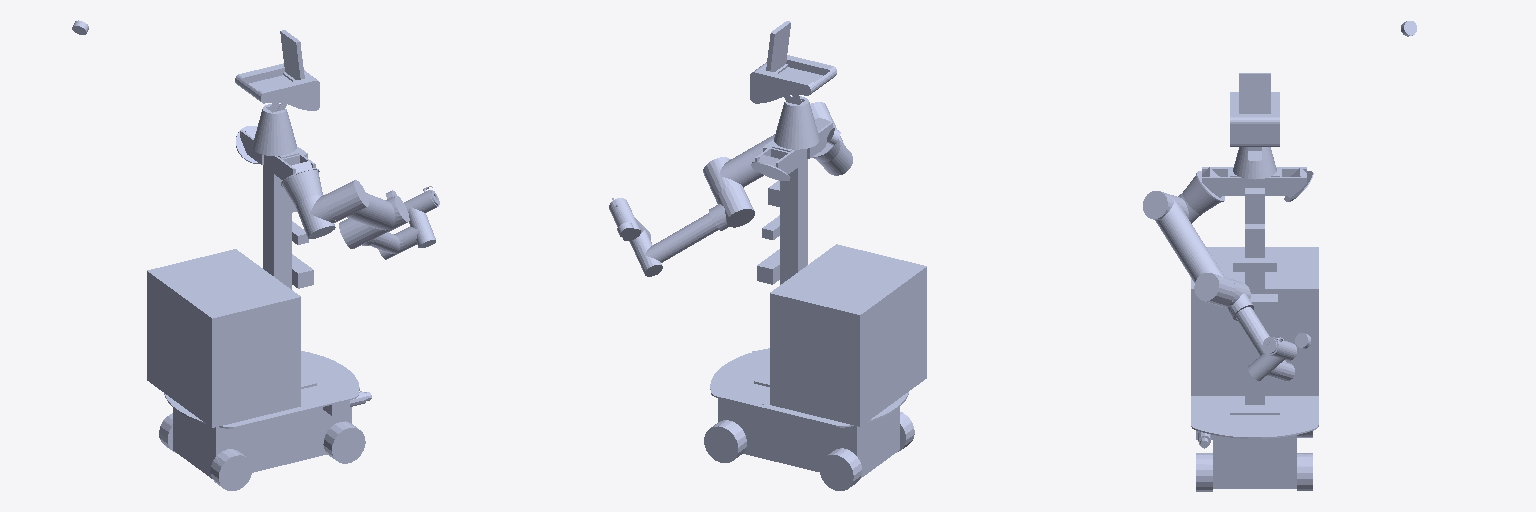
--- Facts derived from the render (not from the file) ---
The picture shows the robot from 3 angles, left to right: view 1: azimuth 30°, elevation 25°; view 2: azimuth 150°, elevation 25°; view 3: azimuth 270°, elevation 25°; orthographic projection.
Model Lowpoly_cholera_waypoint_base_URDF_AVATRINA_ver4.0 with 23 links and 22 joints (14 revolute, 8 fixed), rooted at base_link, posed all joints at 0.
Visible links, largest first — view 1: torso_link, base_link, head_neck2_link, right_upperarm_link, head_neck1_link, right_forearm_link, right_shoulder_link, right_base_link, right_wrist1_link; view 2: torso_link, base_link, head_neck2_link, right_forearm_link, right_upperarm_link, head_neck1_link, right_shoulder_link; view 3: torso_link, base_link, right_upperarm_link, head_neck2_link, right_forearm_link, head_neck1_link, right_base_link, right_wrist1_link.
Boxes of the visible links, x1,y1,x2,y2 form: torso_link: (147,126,319,427); base_link: (159,351,371,490); head_neck2_link: (235,30,319,112); right_upperarm_link: (324,180,409,236); head_neck1_link: (252,104,296,155); right_forearm_link: (339,218,408,259); right_shoulder_link: (295,194,337,238); right_base_link: (282,170,322,205); right_wrist1_link: (402,216,435,247); torso_link: (751,118,926,426); base_link: (704,348,914,490); head_neck2_link: (750,21,836,104); right_forearm_link: (634,185,754,276); right_upperarm_link: (703,102,836,198); head_neck1_link: (774,96,819,149); right_shoulder_link: (817,136,852,175); torso_link: (1191,167,1318,414); base_link: (1191,396,1318,491); right_upperarm_link: (1143,191,1235,305); head_neck2_link: (1230,73,1279,146); right_forearm_link: (1221,279,1294,381); head_neck1_link: (1233,147,1276,179); right_base_link: (1183,176,1220,213); right_wrist1_link: (1248,353,1280,380).
Bounding box of the posed robot: 1.33 × 1.09 × 1.77 m (x, y, z).
Meshes: 23 distinct files referenced, 15 mesh visuals loaded (15 binary STL); not drawn: 8 (reference not matched to a file when rendering).

robot.urdf — Lowpoly_cholera_waypoint_base_URDF_AVATRINA_ver4.0:
<?xml version="1.0" encoding="utf-8"?>
<!-- This URDF was automatically created by SolidWorks to URDF Exporter! Originally created by Stephen Brawner ([email redacted])
     Commit Version: 1.6.0-1-g15f4949  Build Version: 1.6.7594.29634
     For more information, please see http://wiki.ros.org/sw_urdf_exporter -->
<robot
  name="Lowpoly_cholera_waypoint_base_URDF_AVATRINA_ver4.0">
  <link
    name="base_link">
    <inertial>
      <origin
        xyz="0.00200786471252665 -0.00171722204201724 0.152574395291779"
        rpy="0 0 0" />
      <mass
        value="59.4239399661577" />
      <inertia
        ixx="1.09889680453988"
        ixy="0.0250052547792936"
        ixz="-0.0114923035863779"
        iyy="2.40877059769315"
        iyz="0.00991259808770769"
        izz="2.78489736604086" />
    </inertial>
    <visual>
      <origin
        xyz="0 0 0"
        rpy="0 0 0" />
      <geometry>
        <mesh
          filename="Cholera/base_link.STL" />
      </geometry>
      <material
        name="">
        <color
          rgba="0.792156862745098 0.819607843137255 0.933333333333333 1" />
      </material>
    </visual>
    <collision>
      <origin
        xyz="0 0 0"
        rpy="0 0 0" />
      <geometry>
        <mesh
          filename="Cholera/base_link.STL" />
      </geometry>
    </collision>
  </link>
  <link
    name="torso_link">
    <inertial>
      <origin
        xyz="-0.213969125680242 4.88498130835069E-15 0.611142627118972"
        rpy="0 0 0" />
      <mass
        value="106.883031265813" />
      <inertia
        ixx="4.27614691472248"
        ixy="4.49835481364236E-16"
        ixz="-5.0595132743442E-05"
        iyy="3.46832278448625"
        iyz="-5.30380171361584E-16"
        izz="3.37940429795961" />
    </inertial>
    <visual>
      <origin
        xyz="0 0 0"
        rpy="0 0 0" />
      <geometry>
        <mesh
          filename="Cholera/torso_link.STL" />
      </geometry>
      <material
        name="">
        <color
          rgba="0.792156862745098 0.819607843137255 0.933333333333333 1" />
      </material>
    </visual>
    <collision>
      <origin
        xyz="0 0 0"
        rpy="0 0 0" />
      <geometry>
        <mesh
          filename="Cholera/torso_link.STL" />
      </geometry>
    </collision>
  </link>
  <joint
    name="base_torso"
    type="fixed">
    <origin
      xyz="0.0682840549679995 0 -0.0328650000939976"
      rpy="0 0 0" />
    <parent
      link="base_link" />
    <child
      link="torso_link" />
    <axis
      xyz="0 0 0" />
  </joint>
  <link
    name="head_base_link">
    <inertial>
      <origin
        xyz="-1.66533453693773E-16 -4.44089209850063E-16 0.00249999999999995"
        rpy="0 0 0" />
      <mass
        value="0.0737168146928194" />
      <inertia
        ixx="0.000266191924833222"
        ixy="-4.85833779435058E-19"
        ixz="2.15674514151694E-20"
        iyy="4.10395599934384E-05"
        iyz="4.1531055570813E-20"
        izz="0.000306924331432107" />
    </inertial>
    <visual>
      <origin
        xyz="0 0 0"
        rpy="0 0 0" />
      <geometry>
        <mesh
          filename="Cholera/head_base_link.STL" />
      </geometry>
      <material
        name="">
        <color
          rgba="0.792156862745098 0.819607843137255 0.933333333333333 1" />
      </material>
    </visual>
    <collision>
      <origin
        xyz="0 0 0"
        rpy="0 0 0" />
      <geometry>
        <mesh
          filename="Cholera/head_base_link.STL" />
      </geometry>
    </collision>
  </link>
  <joint
    name="torso_head_base"
    type="fixed">
    <origin
      xyz="0.00110804311517892 0 1.339055"
      rpy="0 0 0" />
    <parent
      link="torso_link" />
    <child
      link="head_base_link" />
    <axis
      xyz="0 0 0" />
  </joint>
  <link
    name="head_neck1_link">
    <inertial>
      <origin
        xyz="-0.0171621976150749 -3.79645759274183E-11 0.0558163592976595"
        rpy="0 0 0" />
      <mass
        value="1.99424005579165" />
      <inertia
        ixx="0.00636307121414134"
        ixy="2.33314090941852E-11"
        ixz="0.000332134620334537"
        iyy="0.00611653738686079"
        iyz="8.99706020390952E-12"
        izz="0.00574807185042476" />
    </inertial>
    <visual>
      <origin
        xyz="0 0 0"
        rpy="0 0 0" />
      <geometry>
        <mesh
          filename="Cholera/head_neck1_link.STL" />
      </geometry>
      <material
        name="">
        <color
          rgba="0.792156862745098 0.819607843137255 0.933333333333333 1" />
      </material>
    </visual>
    <collision>
      <origin
        xyz="0 0 0"
        rpy="0 0 0" />
      <geometry>
        <mesh
          filename="Cholera/head_neck1_link.STL" />
      </geometry>
    </collision>
  </link>
  <joint
    name="head_base_neck1"
    type="revolute">
    <origin
      xyz="0 0 0.00499999999999989"
      rpy="0 0 0" />
    <parent
      link="head_base_link" />
    <child
      link="head_neck1_link" />
    <axis
      xyz="0 0 -1" />
    <limit
      lower="-1.57"
      upper="1.57"
      effort="1"
      velocity="1" />
  </joint>
  <link
    name="head_neck2_link">
    <inertial>
      <origin
        xyz="0.117557233805506 0.0580913659504723 5.3786924775201E-07"
        rpy="0 0 0" />
      <mass
        value="3.69751206662782" />
      <inertia
        ixx="0.0314801888840978"
        ixy="0.00327810894331112"
        ixz="-1.06209334090474E-07"
        iyy="0.0191002061001758"
        iyz="3.21923976027293E-07"
        izz="0.0220138214594569" />
    </inertial>
    <visual>
      <origin
        xyz="0 0 0"
        rpy="0 0 0" />
      <geometry>
        <mesh
          filename="Cholera/head_neck2_link.STL" />
      </geometry>
      <material
        name="">
        <color
          rgba="0.792156862745098 0.819607843137255 0.933333333333333 1" />
      </material>
    </visual>
    <collision>
      <origin
        xyz="0 0 0"
        rpy="0 0 0" />
      <geometry>
        <mesh
          filename="Cholera/head_neck2_link.STL" />
      </geometry>
    </collision>
  </link>
  <joint
    name="head_neck1_neck2"
    type="revolute">
    <origin
      xyz="-0.0141080431151795 0 0.1378"
      rpy="-1.5707963267949 -1.5707963267949 0" />
    <parent
      link="head_neck1_link" />
    <child
      link="head_neck2_link" />
    <axis
      xyz="0 0 1" />
    <limit
      lower="-1.57"
      upper="0.785"
      effort="1"
      velocity="1" />
  </joint>
  <link
    name="left_base_link">
    <inertial>
      <origin
        xyz="0 0 0.0452500167858338"
        rpy="0 0 0" />
      <mass
        value="1.39397162412901" />
      <inertia
        ixx="0.00271550342627118"
        ixy="-1.62630325872826E-19"
        ixz="-4.87890977618477E-19"
        iyy="0.00271550342627118"
        iyz="2.71050543121376E-19"
        izz="0.00319199166031868" />
    </inertial>
    <visual>
      <origin
        xyz="0 0 0"
        rpy="0 0 0" />
      <geometry>
        <mesh
          filename="Cholera/left_base_link.STL" />
      </geometry>
      <material
        name="">
        <color
          rgba="0.792156862745098 0.819607843137255 0.933333333333333 1" />
      </material>
    </visual>
    <collision>
      <origin
        xyz="0 0 0"
        rpy="0 0 0" />
      <geometry>
        <mesh
          filename="Cholera/left_base_link.STL" />
      </geometry>
    </collision>
  </link>
  <joint
    name="base_left_base"
    type="fixed">
    <origin
      xyz="0.0682840549679994 0.177248737341525 1.24386766943567"
      rpy="2.5261129449194 0.523598775598302 -2.52611294491941" />
    <parent
      link="base_link" />
    <child
      link="left_base_link" />
    <axis
      xyz="0 0 0" />
  </joint>
  <link
    name="left_shoulder_link">
    <inertial>
      <origin
        xyz="1.14297319386836E-07 0.00937261893288466 0.067026772906609"
        rpy="0 0 0" />
      <mass
        value="1.69867696887764" />
      <inertia
        ixx="0.00442864599419339"
        ixy="-4.1010435672395E-09"
        ixz="2.8740170573277E-10"
        iyy="0.00390531713147106"
        iyz="5.6961157001318E-05"
        izz="0.0035600426008386" />
    </inertial>
    <visual>
      <origin
        xyz="0 0 0"
        rpy="0 0 0" />
      <geometry>
        <mesh
          filename="Cholera/left_shoulder_link.STL" />
      </geometry>
      <material
        name="">
        <color
          rgba="0.792156862745098 0.819607843137255 0.933333333333333 1" />
      </material>
    </visual>
    <collision>
      <origin
        xyz="0 0 0"
        rpy="0 0 0" />
      <geometry>
        <mesh
          filename="Cholera/left_shoulder_link.STL" />
      </geometry>
    </collision>
  </link>
  <joint
    name="left_base_shoulder"
    type="revolute">
    <origin
      xyz="0 0 0.0990600000000002"
      rpy="0 0 1.5707963267949" />
    <parent
      link="left_base_link" />
    <child
      link="left_shoulder_link" />
    <axis
      xyz="0 0 1" />
    <limit
      lower="-6.28"
      upper="6.28"
      effort="150"
      velocity="3.33" />
  </joint>
  <link
    name="left_upperarm_link">
    <inertial>
      <origin
        xyz="1.35809636425677E-07 0.212500030104974 0.0653493983179751"
        rpy="0 0 0" />
      <mass
        value="6.31285273346306" />
      <inertia
        ixx="0.16990036349023"
        ixy="8.61179154376668E-09"
        ixz="3.01509572205039E-07"
        iyy="0.0127291856529223"
        iyz="-4.74484079847695E-10"
        izz="0.168139675767776" />
    </inertial>
    <visual>
      <origin
        xyz="0 0 0"
        rpy="0 0 0" />
      <geometry>
        <mesh
          filename="Cholera/left_upperarm_link.STL" />
      </geometry>
      <material
        name="">
        <color
          rgba="0.792156862745098 0.819607843137255 0.933333333333333 1" />
      </material>
    </visual>
    <collision>
      <origin
        xyz="0 0 0"
        rpy="0 0 0" />
      <geometry>
        <mesh
          filename="Cholera/left_upperarm_link.STL" />
      </geometry>
    </collision>
  </link>
  <joint
    name="left_shoulder_upperarm"
    type="revolute">
    <origin
      xyz="0 0.0744 0.0634490000000003"
      rpy="-1.5707963267949 -1.5707963267949 0" />
    <parent
      link="left_shoulder_link" />
    <child
      link="left_upperarm_link" />
    <axis
      xyz="0 0 1" />
    <limit
      lower="-6.28"
      upper="6.28"
      effort="150"
      velocity="3.33" />
  </joint>
  <link
    name="left_forearm_link">
    <inertial>
      <origin
        xyz="-7.44991928147698E-08 0.150537145068109 0.0641679811020661"
        rpy="0 0 0" />
      <mass
        value="3.18874318974123" />
      <inertia
        ixx="0.0756021338545846"
        ixy="-1.64883032509507E-08"
        ixz="6.14346224933615E-10"
        iyy="0.00433469541115748"
        iyz="-0.00195295037223336"
        izz="0.0749130409918154" />
    </inertial>
    <visual>
      <origin
        xyz="0 0 0"
        rpy="0 0 0" />
      <geometry>
        <mesh
          filename="Cholera/left_forearm_link.STL" />
      </geometry>
      <material
        name="">
        <color
          rgba="0.792156862745098 0.819607843137255 0.933333333333333 1" />
      </material>
    </visual>
    <collision>
      <origin
        xyz="0 0 0"
        rpy="0 0 0" />
      <geometry>
        <mesh
          filename="Cholera/left_forearm_link.STL" />
      </geometry>
    </collision>
  </link>
  <joint
    name="left_upperarm_forearm"
    type="revolute">
    <origin
      xyz="0 0.425 0"
      rpy="3.14159265358979 0 3.14159265358979" />
    <parent
      link="left_upperarm_link" />
    <child
      link="left_forearm_link" />
    <axis
      xyz="0 0 -1" />
    <limit
      lower="-6.28"
      upper="6.28"
      effort="28"
      velocity="3.33" />
  </joint>
  <link
    name="left_wrist1_link">
    <inertial>
      <origin
        xyz="-6.79008420600979E-08 -0.00349488600556425 0.0580237753952952"
        rpy="0 0 0" />
      <mass
        value="0.633562099865019" />
      <inertia
        ixx="0.000995073092670701"
        ixy="1.98275427353749E-10"
        ixz="-3.8640843073813E-10"
        iyy="0.000769001925832068"
        iyz="3.2828800546047E-05"
        izz="0.000691326411605403" />
    </inertial>
    <visual>
      <origin
        xyz="0 0 0"
        rpy="0 0 0" />
      <geometry>
        <mesh
          filename="Cholera/left_wrist1_link.STL" />
      </geometry>
      <material
        name="">
        <color
          rgba="0.792156862745098 0.819607843137255 0.933333333333333 1" />
      </material>
    </visual>
    <collision>
      <origin
        xyz="0 0 0"
        rpy="0 0 0" />
      <geometry>
        <mesh
          filename="Cholera/left_wrist1_link.STL" />
      </geometry>
    </collision>
  </link>
  <joint
    name="left_forearm_wrist1"
    type="revolute">
    <origin
      xyz="0 0.39225 0.0139500000000001"
      rpy="-3.14159265358979 0 1.5707963267949" />
    <parent
      link="left_forearm_link" />
    <child
      link="left_wrist1_link" />
    <axis
      xyz="0 0 1" />
    <limit
      lower="-6.28"
      upper="6.28"
      effort="28"
      velocity="3.33" />
  </joint>
  <link
    name="left_wrist2_link">
    <inertial>
      <origin
        xyz="1.12157481080288E-08 -0.00401808934819226 0.0461487186768794"
        rpy="0 0 0" />
      <mass
        value="0.547369084917851" />
      <inertia
        ixx="0.000728213840607296"
        ixy="-4.19945240216703E-11"
        ixz="8.88611995537034E-11"
        iyy="0.000503983489914328"
        iyz="1.59481903299774E-05"
        izz="0.000628884098642882" />
    </inertial>
    <visual>
      <origin
        xyz="0 0 0"
        rpy="0 0 0" />
      <geometry>
        <mesh
          filename="Cholera/left_wrist2_link.STL" />
      </geometry>
      <material
        name="">
        <color
          rgba="0.792156862745098 0.819607843137255 0.933333333333333 1" />
      </material>
    </visual>
    <collision>
      <origin
        xyz="0 0 0"
        rpy="0 0 0" />
      <geometry>
        <mesh
          filename="Cholera/left_wrist2_link.STL" />
      </geometry>
    </collision>
  </link>
  <joint
    name="left_wrist1_wrist2"
    type="revolute">
    <origin
      xyz="0 0.0462999999999993 0.0728500000000001"
      rpy="1.5707963267949 0 3.14159265358979" />
    <parent
      link="left_wrist1_link" />
    <child
      link="left_wrist2_link" />
    <axis
      xyz="0 0 1" />
    <limit
      lower="-6.28"
      upper="6.28"
      effort="28"
      velocity="3.33" />
  </joint>
  <link
    name="left_EE_link">
    <inertial>
      <origin
        xyz="-1.51146295479521E-09 0.000469330753138486 0.0254781327288542"
        rpy="0 0 0" />
      <mass
        value="0.226303924785541" />
      <inertia
        ixx="0.00013178028696949"
        ixy="1.01819334484988E-11"
        ixz="-1.15641832115526E-12"
        iyy="0.000126852459091633"
        iyz="-3.72245390676955E-07"
        izz="0.000160104333858935" />
    </inertial>
    <visual>
      <origin
        xyz="0 0 0"
        rpy="0 0 0" />
      <geometry>
        <mesh
          filename="Cholera/left_EE_link.STL" />
      </geometry>
      <material
        name="">
        <color
          rgba="0.792156862745098 0.819607843137255 0.933333333333333 1" />
      </material>
    </visual>
    <collision>
      <origin
        xyz="0 0 0"
        rpy="0 0 0" />
      <geometry>
        <mesh
          filename="Cholera/left_EE_link.STL" />
      </geometry>
    </collision>
  </link>
  <joint
    name="left_wrist2_EE"
    type="revolute">
    <origin
      xyz="0 0.0463000000000002 0.0534000000000001"
      rpy="1.5707963267949 0 -3.14159265358979" />
    <parent
      link="left_wrist2_link" />
    <child
      link="left_EE_link" />
    <axis
      xyz="0 0 1" />
    <limit
      lower="-6.28"
      upper="6.28"
      effort="28"
      velocity="3.33" />
  </joint>
  <link
    name="left_tool_link">
    <inertial>
      <origin
        xyz="-0.000500000000000167 0 -5.55111512312578E-16"
        rpy="0 0 0" />
      <mass
        value="2.49999999999997E-05" />
      <inertia
        ixx="1.04166666666665E-10"
        ixy="-1.37324906380874E-26"
        ixz="1.17937860774162E-25"
        iyy="5.4166666666664E-11"
        iyz="-8.35258548222491E-25"
        izz="5.41666666666674E-11" />
    </inertial>
    <visual>
      <origin
        xyz="0 0 0"
        rpy="0 0 0" />
      <geometry>
        <mesh
          filename="Cholera/left_tool_link.STL" />
      </geometry>
      <material
        name="">
        <color
          rgba="0.792156862745098 0.819607843137255 0.933333333333333 1" />
      </material>
    </visual>
    <collision>
      <origin
        xyz="0 0 0"
        rpy="0 0 0" />
      <geometry>
        <mesh
          filename="Cholera/left_tool_link.STL" />
      </geometry>
    </collision>
  </link>
  <joint
    name="left_EE_tool"
    type="fixed">
    <origin
      xyz="0 0 0.0533000000000003"
      rpy="1.5707963267949 -1.5707963267949 0" />
    <parent
      link="left_EE_link" />
    <child
      link="left_tool_link" />
    <axis
      xyz="0 0 0" />
  </joint>
  <link
    name="left_wrist2_camera_link">
    <inertial>
      <origin
        xyz="0 0.0716935987989149 -0.00634999999999986"
        rpy="0 0 0" />
      <mass
        value="0.07549040710943" />
      <inertia
        ixx="2.14881616185536E-05"
        ixy="2.11758236813575E-21"
        ixz="-6.7762635780344E-21"
        iyy="2.191482174861E-05"
        iyz="-3.3881317890172E-21"
        izz="3.48977308328345E-05" />
    </inertial>
    <visual>
      <origin
        xyz="0 0 0"
        rpy="0 0 0" />
      <geometry>
        <mesh
          filename="Cholera/left_wrist2_camera_link.STL" />
      </geometry>
      <material
        name="">
        <color
          rgba="0.792156862745098 0.819607843137255 0.933333333333333 1" />
      </material>
    </visual>
    <collision>
      <origin
        xyz="0 0 0"
        rpy="0 0 0" />
      <geometry>
        <mesh
          filename="Cholera/left_wrist2_camera_link.STL" />
      </geometry>
    </collision>
  </link>
  <joint
    name="left_wrist2_camera"
    type="fixed">
    <origin
      xyz="0 -0.0583299999999998 0.0534000000000003"
      rpy="1.5707963267949 0 3.14159265358979" />
    <parent
      link="left_wrist2_link" />
    <child
      link="left_wrist2_camera_link" />
    <axis
      xyz="0 0 0" />
  </joint>
  <link
    name="right_base_link">
    <inertial>
      <origin
        xyz="2.22044604925031E-16 1.11022302462516E-16 0.0452500167858341"
        rpy="0 0 0" />
      <mass
        value="1.39397162412901" />
      <inertia
        ixx="0.00271550342627118"
        ixy="2.71050543121376E-19"
        ixz="4.87890977618477E-19"
        iyy="0.00271550342627118"
        iyz="2.16840434497101E-19"
        izz="0.00319199166031868" />
    </inertial>
    <visual>
      <origin
        xyz="0 0 0"
        rpy="0 0 0" />
      <geometry>
        <mesh
          filename="Cholera/right_base_link.STL" />
      </geometry>
      <material
        name="">
        <color
          rgba="0.792156862745098 0.819607843137255 0.933333333333333 1" />
      </material>
    </visual>
    <collision>
      <origin
        xyz="0 0 0"
        rpy="0 0 0" />
      <geometry>
        <mesh
          filename="Cholera/right_base_link.STL" />
      </geometry>
    </collision>
  </link>
  <joint
    name="base_right_base"
    type="fixed">
    <origin
      xyz="0.0682840549679992 -0.177248737341533 1.24386766943567"
      rpy="-2.52611294491941 0.523598775598296 2.52611294491941" />
    <parent
      link="base_link" />
    <child
      link="right_base_link" />
    <axis
      xyz="0 0 0" />
  </joint>
  <link
    name="right_shoulder_link">
    <inertial>
      <origin
        xyz="1.51306617721114E-05 0.00937262932033178 0.067026791708141"
        rpy="0 0 0" />
      <mass
        value="1.69867711391749" />
      <inertia
        ixx="0.00442865037959082"
        ixy="1.79699203140373E-08"
        ixz="-1.97665668979856E-07"
        iyy="0.00390531752644237"
        iyz="5.69595475776797E-05"
        izz="0.00356004026239241" />
    </inertial>
    <visual>
      <origin
        xyz="0 0 0"
        rpy="0 0 0" />
      <geometry>
        <mesh
          filename="Cholera/right_shoulder_link.STL" />
      </geometry>
      <material
        name="">
        <color
          rgba="0.792156862745098 0.819607843137255 0.933333333333333 1" />
      </material>
    </visual>
    <collision>
      <origin
        xyz="0 0 0"
        rpy="0 0 0" />
      <geometry>
        <mesh
          filename="Cholera/right_shoulder_link.STL" />
      </geometry>
    </collision>
  </link>
  <joint
    name="right_base_shoulder"
    type="revolute">
    <origin
      xyz="0 0 0.0990600000000001"
      rpy="0 0.000227291627930162 1.5707963267949" />
    <parent
      link="right_base_link" />
    <child
      link="right_shoulder_link" />
    <axis
      xyz="0 0 1" />
    <limit
      lower="-6.28"
      upper="6.28"
      effort="150"
      velocity="3.33" />
  </joint>
  <link
    name="right_upperarm_link">
    <inertial>
      <origin
        xyz="-1.35809636425677E-07 0.212499969895026 0.065349398317975"
        rpy="0 0 0" />
      <mass
        value="6.31285273346304" />
      <inertia
        ixx="0.16990036349023"
        ixy="8.61179158583372E-09"
        ixz="-3.01509572211978E-07"
        iyy="0.0127291856529223"
        iyz="4.74484075077206E-10"
        izz="0.168139675767775" />
    </inertial>
    <visual>
      <origin
        xyz="0 0 0"
        rpy="0 0 0" />
      <geometry>
        <mesh
          filename="Cholera/right_upperarm_link.STL" />
      </geometry>
      <material
        name="">
        <color
          rgba="0.792156862745098 0.819607843137255 0.933333333333333 1" />
      </material>
    </visual>
    <collision>
      <origin
        xyz="0 0 0"
        rpy="0 0 0" />
      <geometry>
        <mesh
          filename="Cholera/right_upperarm_link.STL" />
      </geometry>
    </collision>
  </link>
  <joint
    name="right_shoulder_upperarm"
    type="revolute">
    <origin
      xyz="1.44214263767539E-05 0.0743999999999999 0.063448998361065"
      rpy="1.57079632679488 -1.54779960014469 -3.14159265358976" />
    <parent
      link="right_shoulder_link" />
    <child
      link="right_upperarm_link" />
    <axis
      xyz="0 0 1" />
    <limit
      lower="-6.28"
      upper="6.28"
      effort="150"
      velocity="28" />
  </joint>
  <link
    name="right_forearm_link">
    <inertial>
      <origin
        xyz="-6.88234000900678E-08 0.150537145210714 0.0641679259977747"
        rpy="0 0 0" />
      <mass
        value="3.18874323055421" />
      <inertia
        ixx="0.0756018393308706"
        ixy="-9.2395009204584E-08"
        ixz="-2.65068297693183E-08"
        iyy="0.00433460742981964"
        iyz="-0.00195295573135471"
        izz="0.0749126070237331" />
    </inertial>
    <visual>
      <origin
        xyz="0 0 0"
        rpy="0 0 0" />
      <geometry>
        <mesh
          filename="Cholera/right_forearm_link.STL" />
      </geometry>
      <material
        name="">
        <color
          rgba="0.792156862745098 0.819607843137255 0.933333333333333 1" />
      </material>
    </visual>
    <collision>
      <origin
        xyz="0 0 0"
        rpy="0 0 0" />
      <geometry>
        <mesh
          filename="Cholera/right_forearm_link.STL" />
      </geometry>
    </collision>
  </link>
  <joint
    name="right_upperarm_forearm"
    type="revolute">
    <origin
      xyz="0 0.425 0"
      rpy="3.14159265358979 0 -3.14159265358979" />
    <parent
      link="right_upperarm_link" />
    <child
      link="right_forearm_link" />
    <axis
      xyz="0 0 -1" />
    <limit
      lower="-6.28"
      upper="6.28"
      effort="28"
      velocity="3.33" />
  </joint>
  <link
    name="right_wrist1_link">
    <inertial>
      <origin
        xyz="6.90914476741966E-08 -0.00349490925940399 0.0580237760681649"
        rpy="0 0 0" />
      <mass
        value="0.633562086796879" />
      <inertia
        ixx="0.000995072942241237"
        ixy="-1.48590563274877E-10"
        ixz="4.36373581502248E-10"
        iyy="0.000769001946471978"
        iyz="3.2828478939037E-05"
        izz="0.000691326353425231" />
    </inertial>
    <visual>
      <origin
        xyz="0 0 0"
        rpy="0 0 0" />
      <geometry>
        <mesh
          filename="Cholera/right_wrist1_link.STL" />
      </geometry>
      <material
        name="">
        <color
          rgba="0.792156862745098 0.819607843137255 0.933333333333333 1" />
      </material>
    </visual>
    <collision>
      <origin
        xyz="0 0 0"
        rpy="0 0 0" />
      <geometry>
        <mesh
          filename="Cholera/right_wrist1_link.STL" />
      </geometry>
    </collision>
  </link>
  <joint
    name="right_forearm_wrist1"
    type="revolute">
    <origin
      xyz="0 0.39225 0.0139500000000001"
      rpy="3.14159265358979 0 1.57079632679491" />
    <parent
      link="right_forearm_link" />
    <child
      link="right_wrist1_link" />
    <axis
      xyz="0 0 1" />
    <limit
      lower="-6.28"
      upper="6.28"
      effort="28"
      velocity="3.33" />
  </joint>
  <link
    name="right_wrist2_link">
    <inertial>
      <origin
        xyz="-8.35234281737485E-09 -0.00401808937073156 0.0461487186816052"
        rpy="0 0 0" />
      <mass
        value="0.547369083405584" />
      <inertia
        ixx="0.000728213843703611"
        ixy="-2.77103668922538E-12"
        ixz="-4.36601659773578E-11"
        iyy="0.000503983489439201"
        iyz="1.59481907904132E-05"
        izz="0.000628884093065118" />
    </inertial>
    <visual>
      <origin
        xyz="0 0 0"
        rpy="0 0 0" />
      <geometry>
        <mesh
          filename="Cholera/right_wrist2_link.STL" />
      </geometry>
      <material
        name="">
        <color
          rgba="0.792156862745098 0.819607843137255 0.933333333333333 1" />
      </material>
    </visual>
    <collision>
      <origin
        xyz="0 0 0"
        rpy="0 0 0" />
      <geometry>
        <mesh
          filename="Cholera/right_wrist2_link.STL" />
      </geometry>
    </collision>
  </link>
  <joint
    name="right_wrist1_wrist2"
    type="revolute">
    <origin
      xyz="0 0.0463 0.0728500000000002"
      rpy="1.5707963267949 0 3.14159265358979" />
    <parent
      link="right_wrist1_link" />
    <child
      link="right_wrist2_link" />
    <axis
      xyz="0 0 1" />
    <limit
      lower="-6.28"
      upper="6.28"
      effort="28"
      velocity="3.33" />
  </joint>
  <link
    name="right_EE_link">
    <inertial>
      <origin
        xyz="-1.0910551495602E-07 0.000469331511707471 0.0254781326274038"
        rpy="0 0 0" />
      <mass
        value="0.226303929757806" />
      <inertia
        ixx="0.000131780293033956"
        ixy="1.13462469870658E-09"
        ixz="8.30939517632587E-11"
        iyy="0.000126852459976797"
        iyz="-3.72244556244724E-07"
        izz="0.00016010434115452" />
    </inertial>
    <visual>
      <origin
        xyz="0 0 0"
        rpy="0 0 0" />
      <geometry>
        <mesh
          filename="Cholera/right_EE_link.STL" />
      </geometry>
      <material
        name="">
        <color
          rgba="0.792156862745098 0.819607843137255 0.933333333333333 1" />
      </material>
    </visual>
    <collision>
      <origin
        xyz="0 0 0"
        rpy="0 0 0" />
      <geometry>
        <mesh
          filename="Cholera/right_EE_link.STL" />
      </geometry>
    </collision>
  </link>
  <joint
    name="right_wrist2_EE"
    type="revolute">
    <origin
      xyz="0 0.0463000000000001 0.0534000000000003"
      rpy="1.5707963267949 0.000227291627932216 3.14159265358979" />
    <parent
      link="right_wrist2_link" />
    <child
      link="right_EE_link" />
    <axis
      xyz="0 0 1" />
    <limit
      lower="-6.28"
      upper="6.28"
      effort="28"
      velocity="3.33" />
  </joint>
  <link
    name="right_tool_link">
    <inertial>
      <origin
        xyz="-0.000499999999999945 0 0"
        rpy="0 0 0" />
      <mass
        value="2.49999999999991E-05" />
      <inertia
        ixx="1.04166666666663E-10"
        ixy="-7.43170081590611E-26"
        ixz="1.74483410460404E-25"
        iyy="5.41666666666644E-11"
        iyz="7.88406521339605E-25"
        izz="5.41666666666649E-11" />
    </inertial>
    <visual>
      <origin
        xyz="0 0 0"
        rpy="0 0 0" />
      <geometry>
        <mesh
          filename="Cholera/right_tool_link.STL" />
      </geometry>
      <material
        name="">
        <color
          rgba="0.792156862745098 0.819607843137255 0.933333333333333 1" />
      </material>
    </visual>
    <collision>
      <origin
        xyz="0 0 0"
        rpy="0 0 0" />
      <geometry>
        <mesh
          filename="Cholera/right_tool_link.STL" />
      </geometry>
    </collision>
  </link>
  <joint
    name="right_EE_tool"
    type="fixed">
    <origin
      xyz="0 0 0.0532999999999997"
      rpy="1.57056903516696 -1.5707963267949 0" />
    <parent
      link="right_EE_link" />
    <child
      link="right_tool_link" />
    <axis
      xyz="0 0 0" />
  </joint>
  <link
    name="right_wrist2_camera_link">
    <inertial>
      <origin
        xyz="-2.22044604925031E-16 0.0716935987989153 0.00635000000000008"
        rpy="0 0 0" />
      <mass
        value="0.0754904071094299" />
      <inertia
        ixx="2.14881616185536E-05"
        ixy="-1.6940658945086E-21"
        ixz="5.50571415715295E-21"
        iyy="2.191482174861E-05"
        iyz="-3.3881317890172E-21"
        izz="3.48977308328345E-05" />
    </inertial>
    <visual>
      <origin
        xyz="0 0 0"
        rpy="0 0 0" />
      <geometry>
        <mesh
          filename="Cholera/right_wrist2_camera_link.STL" />
      </geometry>
      <material
        name="">
        <color
          rgba="0.792156862745098 0.819607843137255 0.933333333333333 1" />
      </material>
    </visual>
    <collision>
      <origin
        xyz="0 0 0"
        rpy="0 0 0" />
      <geometry>
        <mesh
          filename="Cholera/right_wrist2_camera_link.STL" />
      </geometry>
    </collision>
  </link>
  <joint
    name="right_wrist2_camera"
    type="fixed">
    <origin
      xyz="0 -0.0583299999999999 0.0534000000000001"
      rpy="1.5707963267949 0 0" />
    <parent
      link="right_wrist2_link" />
    <child
      link="right_wrist2_camera_link" />
    <axis
      xyz="0 0 0" />
  </joint>
  <klampt>
    <!-- left gripper Robotiq140 -->
    <mount link = 'left_tool_link' file = "robotiq_140.rob" transform = "0 0 1 0 1 0 -1 0 0  0 0 0" prefix="left_gripper"/>
    <mount link = 'right_tool_link' file = "robotiq_140.rob" transform = "0 0 1 0 1 0 -1 0 0  0 0 0" prefix="right_gripper"/>
    <noselfcollision group1="left_gripper:base_link left_gripper:right_inner_knuckle left_gripper:right_outer_knuckle left_gripper:right_outer_finger left_gripper:right_inner_finger  left_gripper:right_inner_finger_pad left_gripper:left_inner_knuckle left_gripper:left_outer_knuckle  left_gripper:left_outer_finger  left_gripper:left_inner_finger  left_gripper:left_inner_finger_pad" group2="left_EE_link left_tool_link left_wrist2_link left_wrist1_link"/>
    <noselfcollision group1="right_gripper:base_link right_gripper:right_inner_knuckle right_gripper:right_outer_knuckle right_gripper:right_outer_finger right_gripper:right_inner_finger  right_gripper:right_inner_finger_pad right_gripper:left_inner_knuckle right_gripper:left_outer_knuckle  right_gripper:left_outer_finger  right_gripper:left_inner_finger  right_gripper:left_inner_finger_pad" group2="right_EE_link right_tool_link right_wrist2_link right_wrist1_link"/>
    <!-- right gripper Robotiq ePick -->
    <noselfcollision group1="torso_link" group2="left_base_link right_base_link"/>
    <noselfcollision group1="left_base_link" group2="right_base_link right_shoulder_link right_upperarm_link"/>
    <noselfcollision group1="left_base_link" group2="left_upperarm_link"/>
    <noselfcollision group1="left_shoulder_link" group2="right_shoulder_link"/>
    <noselfcollision group1="left_wrist2_link" group2="left_forearm_link left_tool_link"/>
    <noselfcollision pairs="left_EE_link left_wrist1_link"/>
    <noselfcollision group1="right_base_link" group2="left_shoulder_link left_upperarm_link"/>
    <noselfcollision group1="right_base_link" group2="right_upperarm_link"/>
    <noselfcollision group1="right_wrist2_link" group2="right_forearm_link left_tool_link"/>
    <noselfcollision pairs="right_EE_link right_wrist1_link"/>
    <noselfcollision pairs="left_tool_link right_tool_link"/>
    <noselfcollision group1="left_tool_link right_tool_link" group2="base_link left_base_link left_shoulder_link left_upperarm_link left_forearm_link left_wrist1_link left_wrist2_link left_EE_link right_base_link right_shoulder_link right_upperarm_link right_forearm_link right_wrist1_link right_wrist2_link right_EE_link"/>

    <noselfcollision group1="base_link" group2="head_base_link head_neck1_link head_neck2_link"/>
    <noselfcollision group1="base_link" group2="left_shoulder_link right_shoulder_link"/>
    <noselfcollision group1="head_base_link" group2="head_neck2_link"/>

    <sensors>
        <CameraSensor name="realsense_overhead_5_l515" link="left_wrist2_link"
        Tsensor="0.9997864319857709 -0.0201111306309159 -0.0047573986492837565 0.0048949440577391815 0.006795582674075577 0.9999649291744145 -0.020078096021126472 -0.9997746558504402 0.006892574214354562 0.0037220311923585234 -0.056645973112591744 0.14671806292615752"
        xres="1280" yres="720" xfov="1.19901" yfov="0.7347727" zmin="0.01"
        zmax ="1.5" zresolution="0.01" zvarianceLinear="0.00001"/>

        <CameraSensor name="realsense_overhead_4_l515" link="right_wrist2_link"
        Tsensor="0.9998931445526114 -0.007518962117395853 -0.01253653402531087 0.012615369442428227 0.01053073775651491 0.9998649688913672 -0.007385927871409198 -0.9999162808810449 0.010624466974755175 0.0015085317684312054 -0.05205054693141718 0.14777557494542187"
        xres="1280" yres="720" xfov="1.19901" yfov="0.7347727"
        zmin="0.01" zmax ="1.5" zresolution="0.01" zvarianceLinear="0.00001"/>

        <CameraSensor name="realsense_slam_l515" link="base_link"
        Tsensor="0.008535120819753494 -0.001049916270607354 0.9999630240105964 -0.9997338576643883 0.021424624312872398 0.008555659678403327 -0.021432814842493042 -0.9997699151049089 -0.0008667750864108648 0.09357422565716068 -0.0012717915732546566 1.1642385353448976"
        xres="1280" yres="720" xfov="1.196155" yfov="0.7315540"
        zmin="0.01" zmax ="1.5" zresolution="0.01" zvarianceLinear="0.00001"/>

        <CameraSensor name="zed_slam_left" link="base_link"
        Tsensor="0.006447890696940961 -0.059488606071236794 0.9982081598811248
                -0.9988406134813741 -0.048005552835298726 0.0035910662941980864
                0.04770590703164829 -0.9970740056007268 -0.05972917034087444
                0.07982846612525446 0.06223457108480517 0.9930913648574041"
        xres="672" yres="376" xfov="1.20428" yfov="0.942478"
        zmin="0.1" zmax ="1.5" zresolution="0.01" zvarianceLinear="0.00001"/>

        <CameraSensor name="zed_slam_right" link="base_link"
        Tsensor="0.006447890696940961 -0.059488606071236794 0.9982081598811248
            -0.9988406134813741 -0.048005552835298726 0.0035910662941980864
            0.04770590703164829 -0.9970740056007268 -0.05972917034087444
            0.08060221300888737 -0.057626302532959715 0.998816073701202"
        xres="672" yres="376" xfov="1.20428" yfov="0.942478"
        zmin="0.1" zmax ="1.5" zresolution="0.01" zvarianceLinear="0.00001"/>

        <LaserRangeSensor name="lidar" link="base_link"
        Tsensor="0 0 1  1 0 0  0 1 0  0.2 0 0.2"  depthMaximum="25.0"
        depthMinimum="0.1" depthResolution="0.01" depthVarianceLinear="0.0001"
        xSweepMagnitude="1.91986" measurementCount="660" />
    </sensors>
  </klampt>
</robot>
